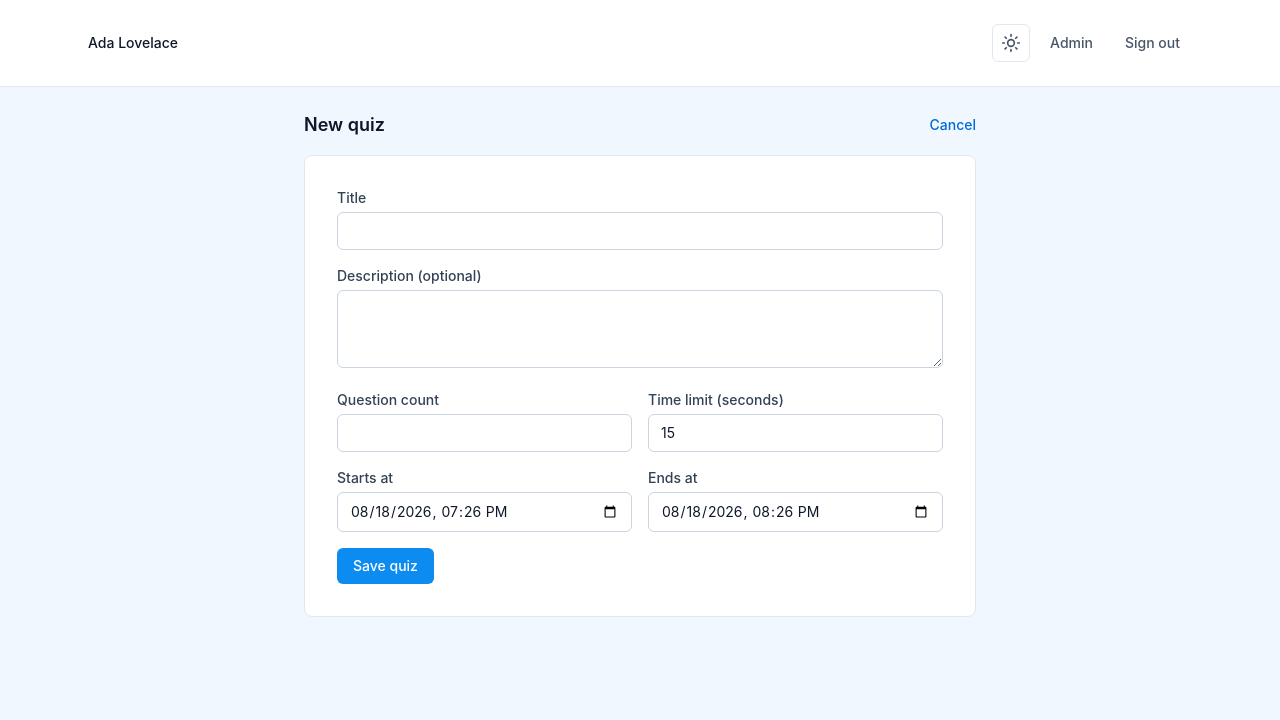
AdminQuizForm › should_create_quiz_and_navigate_to_admin_when_form_is_valid
Type "Brand New Quiz" into the field labelled "Title" at x=640, y=231, box [337, 212, 943, 250]
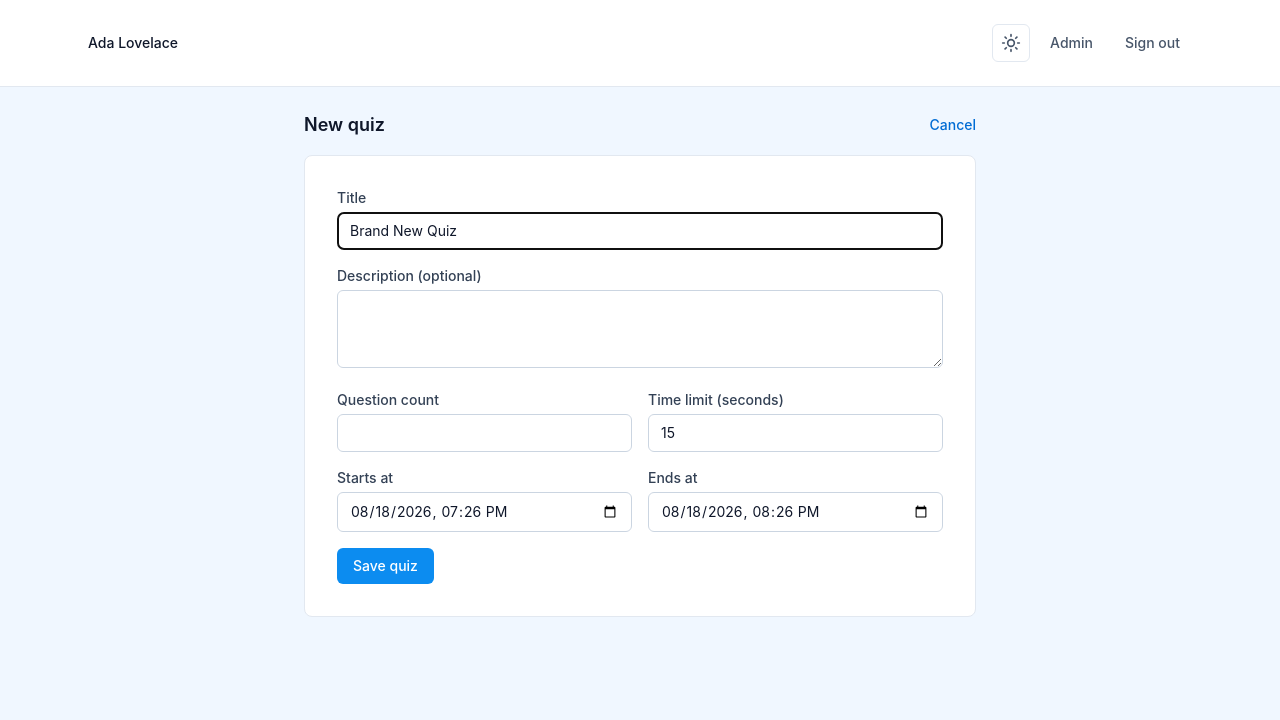
Type "3" into the number field labelled "Question count" at x=484, y=433, box [337, 414, 632, 452]
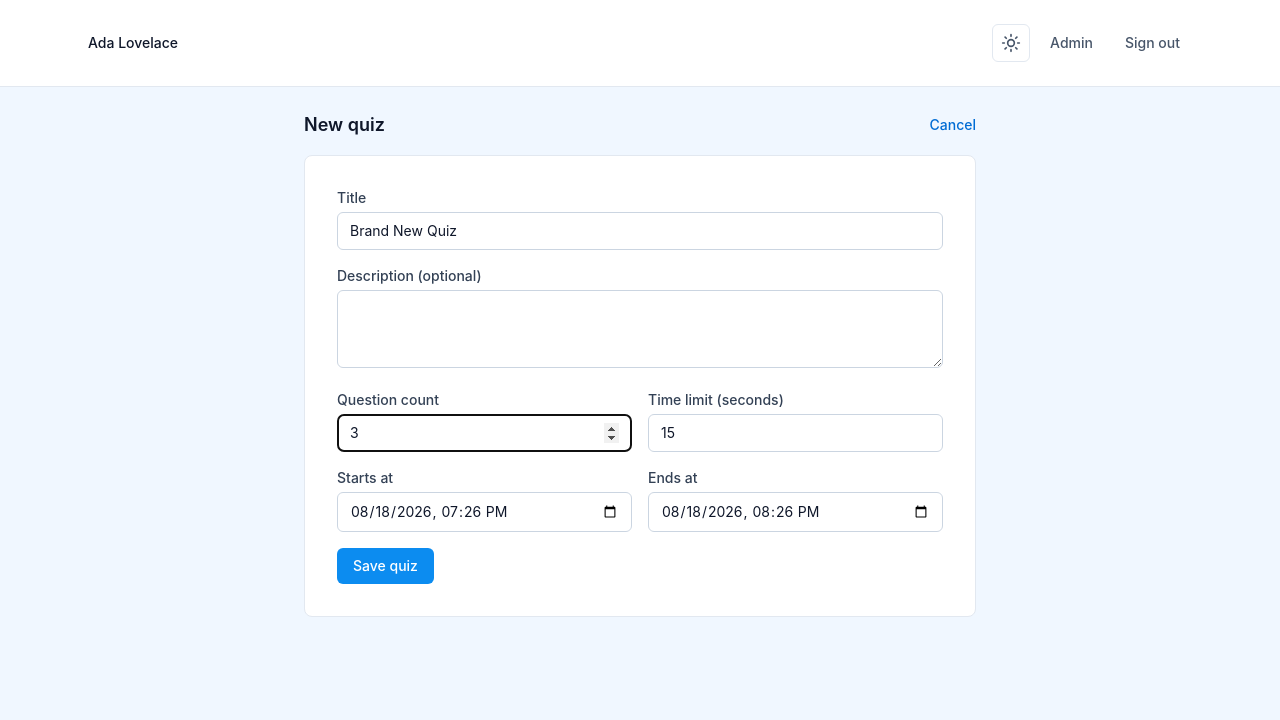
Click the button "Save quiz" at x=386, y=566, box [337, 548, 434, 584]
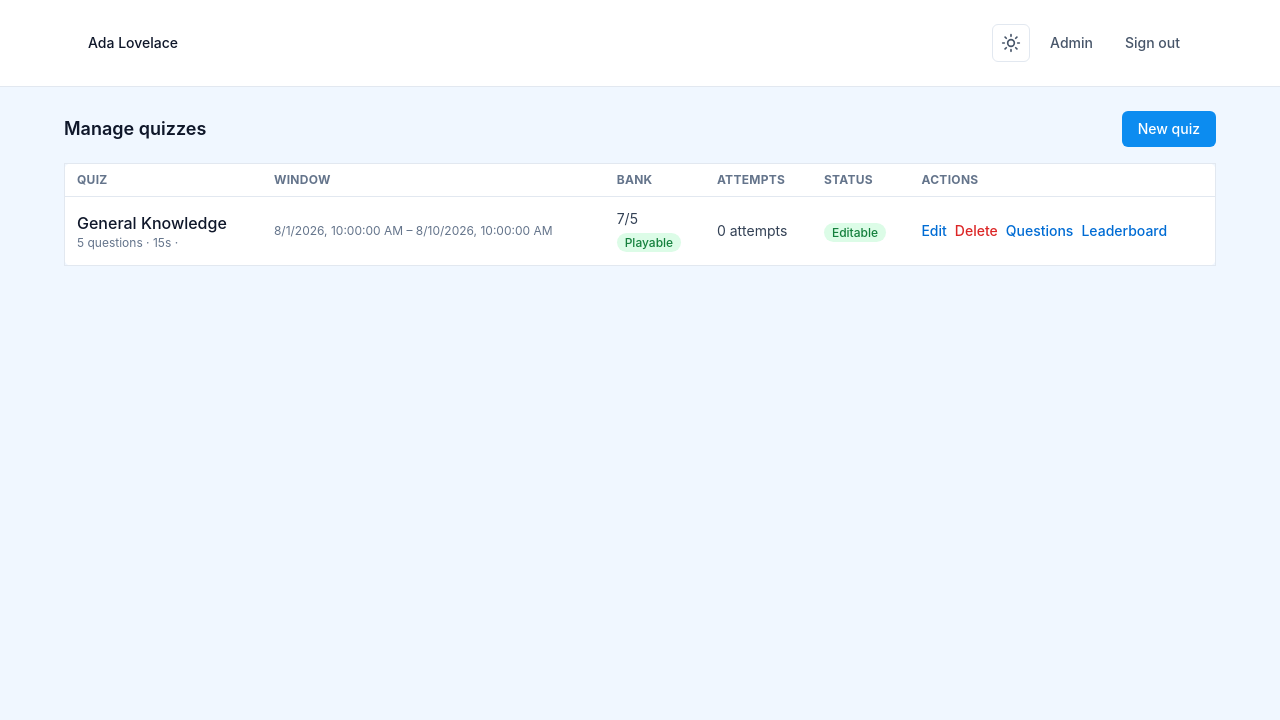
Now the heading "Manage quizzes" is shown, box [64, 115, 206, 143]
